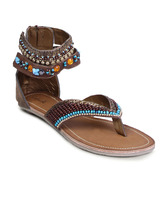shoes: (10, 23, 158, 161)
